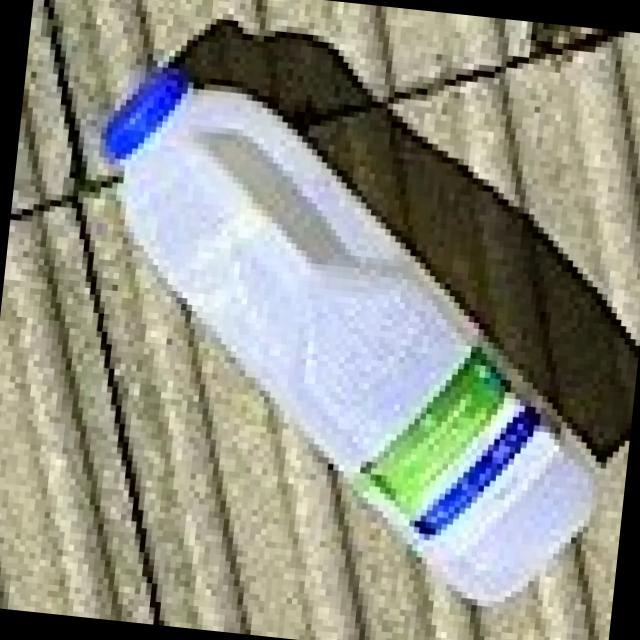HDPE Plastic: (97, 63, 609, 610)
